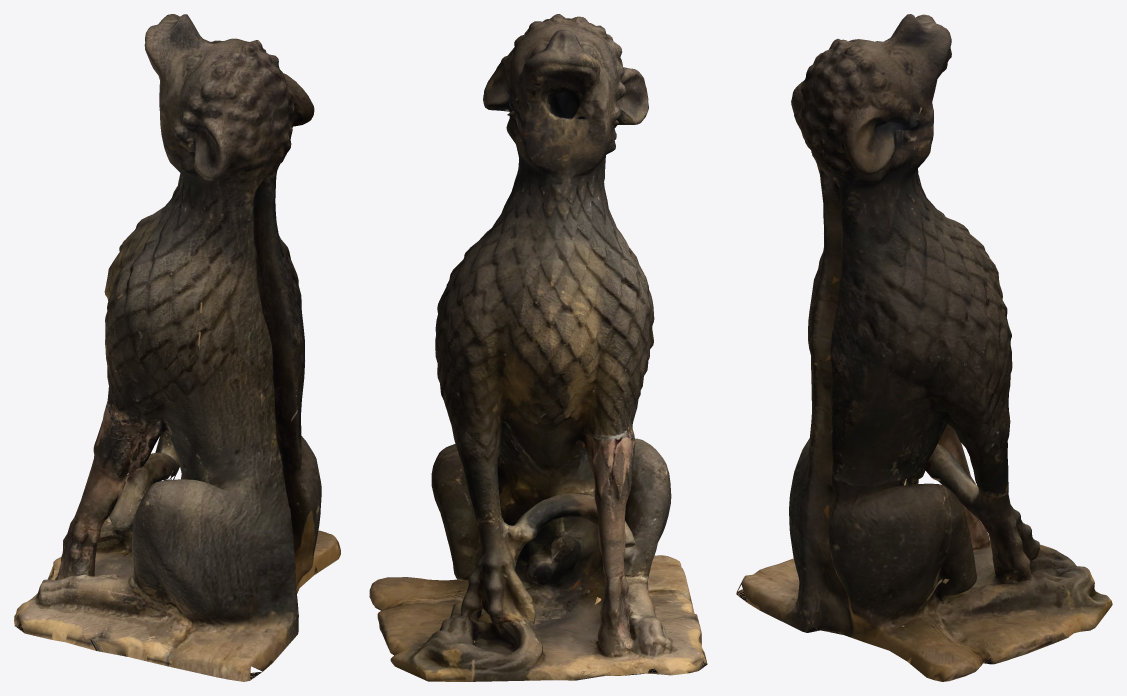
File: 05_feathered-dog.gltf
3 renders of one model, left to right at view 1: azimuth 30°, elevation 25°; view 2: azimuth 150°, elevation 25°; view 3: azimuth 270°, elevation 25°, orthographic.
Parts seen in each view (by area): view 1: Mesh_0; view 2: Mesh_0; view 3: Mesh_0.
Boxes of the visible parts, x1=… form: Mesh_0: x1=14, y1=14, x2=340, y2=681; Mesh_0: x1=369, y1=14, x2=707, y2=681; Mesh_0: x1=736, y1=14, x2=1112, y2=681.
Bounding box in the file's own units: 2.12 × 3.71 × 2.14.
7 materials, 7 textured.
